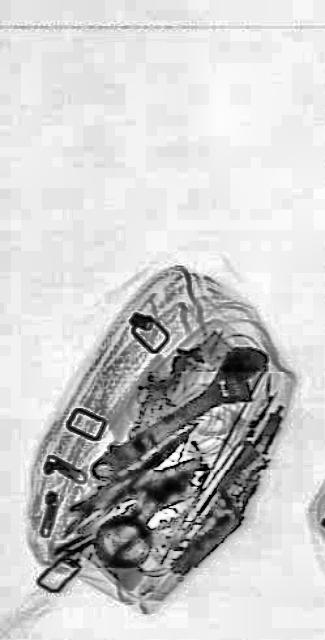Wrench: (84, 325, 274, 503)
